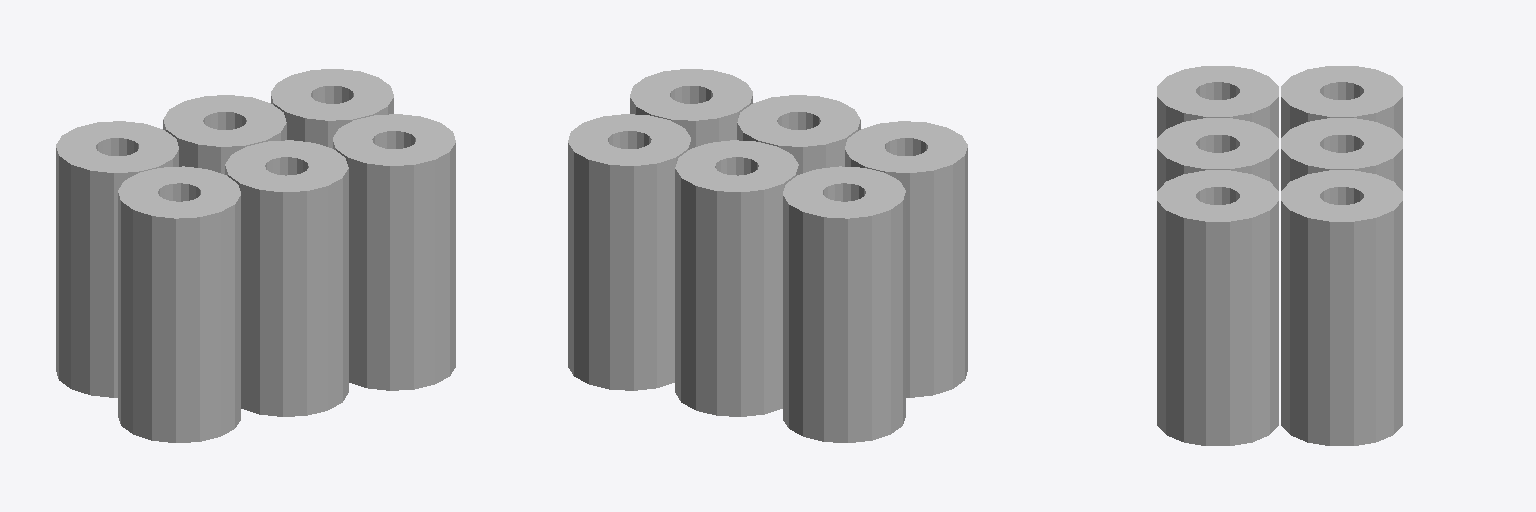
Rendered from PaperTowels.obj.
3 renders of one model, left to right at view 1: azimuth 30°, elevation 25°; view 2: azimuth 150°, elevation 25°; view 3: azimuth 270°, elevation 25°, orthographic.
Parts seen in each view (by area): view 1: TPRoll_Cylinder.002; view 2: TPRoll_Cylinder.002; view 3: TPRoll_Cylinder.002.
Boxes of the visible parts, x1=… form: TPRoll_Cylinder.002: x1=56, y1=69, x2=455, y2=442; TPRoll_Cylinder.002: x1=568, y1=69, x2=967, y2=442; TPRoll_Cylinder.002: x1=1157, y1=66, x2=1402, y2=445.
Size of the model in its own units: 5.96 by 4 by 3.96.